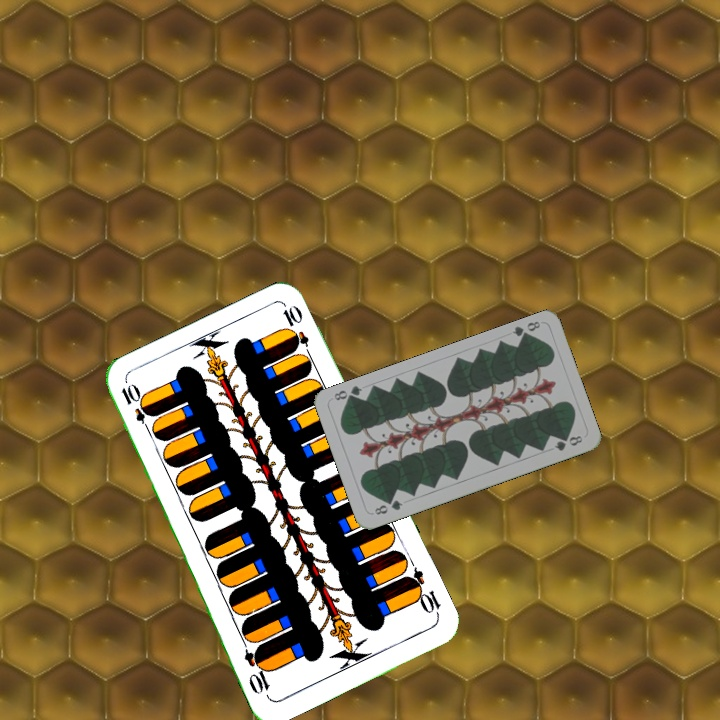E10: (401, 564, 444, 620), (117, 380, 155, 436)
G8: (508, 317, 543, 343), (370, 496, 405, 518)
